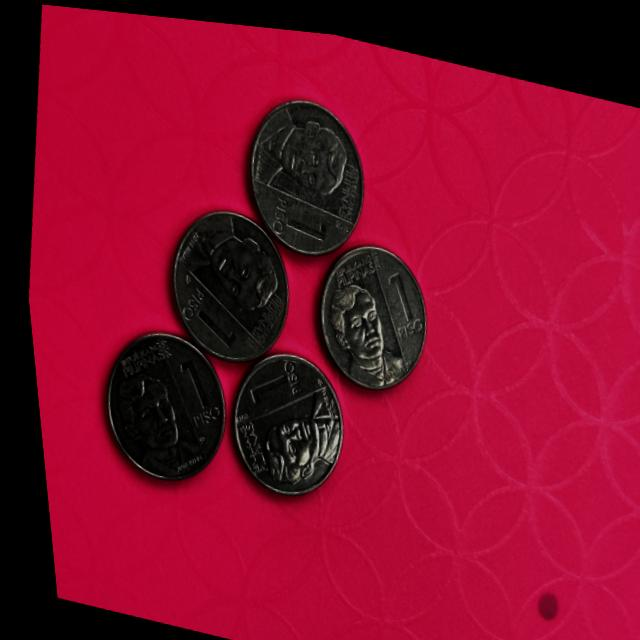1_New_Front: (364, 257, 425, 338), (237, 345, 309, 413), (165, 352, 222, 436), (171, 276, 241, 340), (262, 185, 336, 242)
